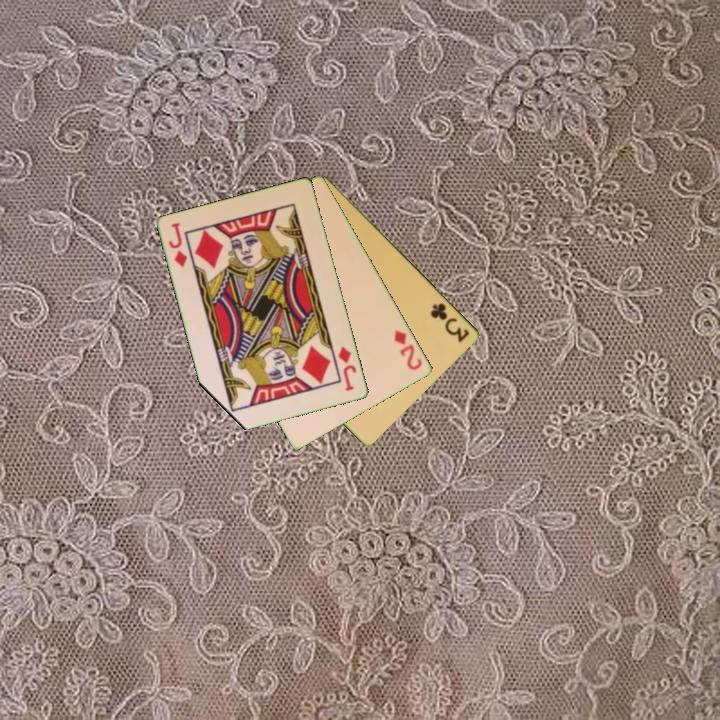2d: (390, 326, 425, 373)
3c: (427, 299, 473, 345)
Jd: (335, 342, 360, 394), (165, 219, 190, 270)
